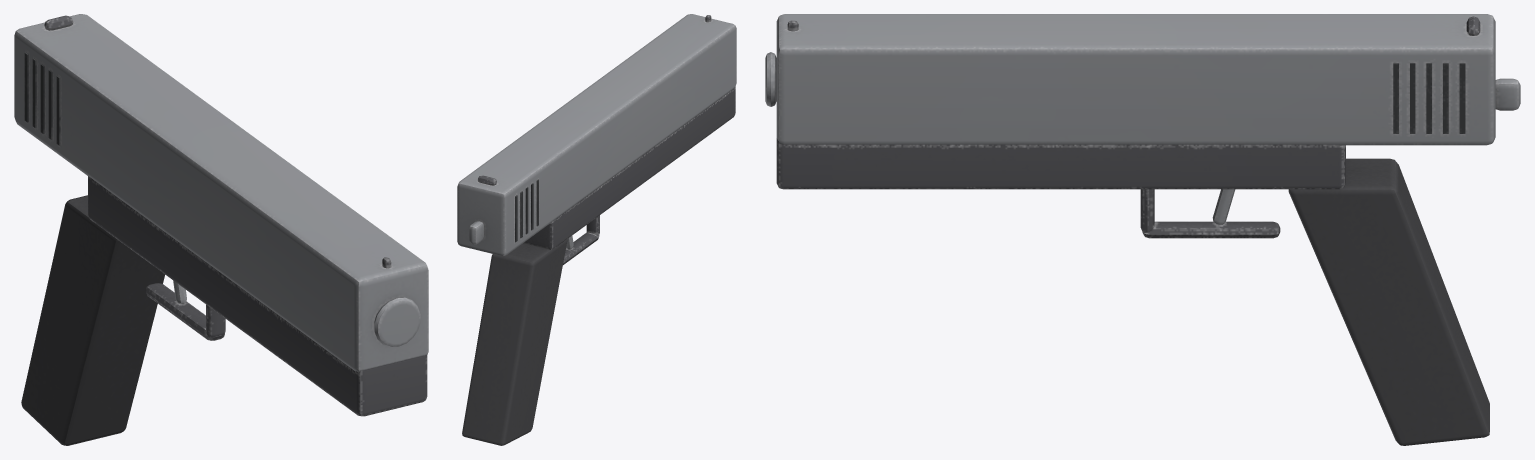
The model's file is deagle.fbx.
The picture shows the model from 3 angles, left to right: view 1: azimuth 30°, elevation 25°; view 2: azimuth 150°, elevation 25°; view 3: azimuth 270°, elevation 25°; orthographic projection. The views are drawn at different scales.
Visible parts, largest first — view 1: deagle; view 2: deagle; view 3: deagle.
Boxes of the visible parts, box(x1,y1,x2,y2) form: deagle: box(14, 14, 428, 445); deagle: box(457, 14, 736, 445); deagle: box(765, 14, 1520, 445).
Size of the model in its own units: 0.033 by 0.1642 by 0.273.
